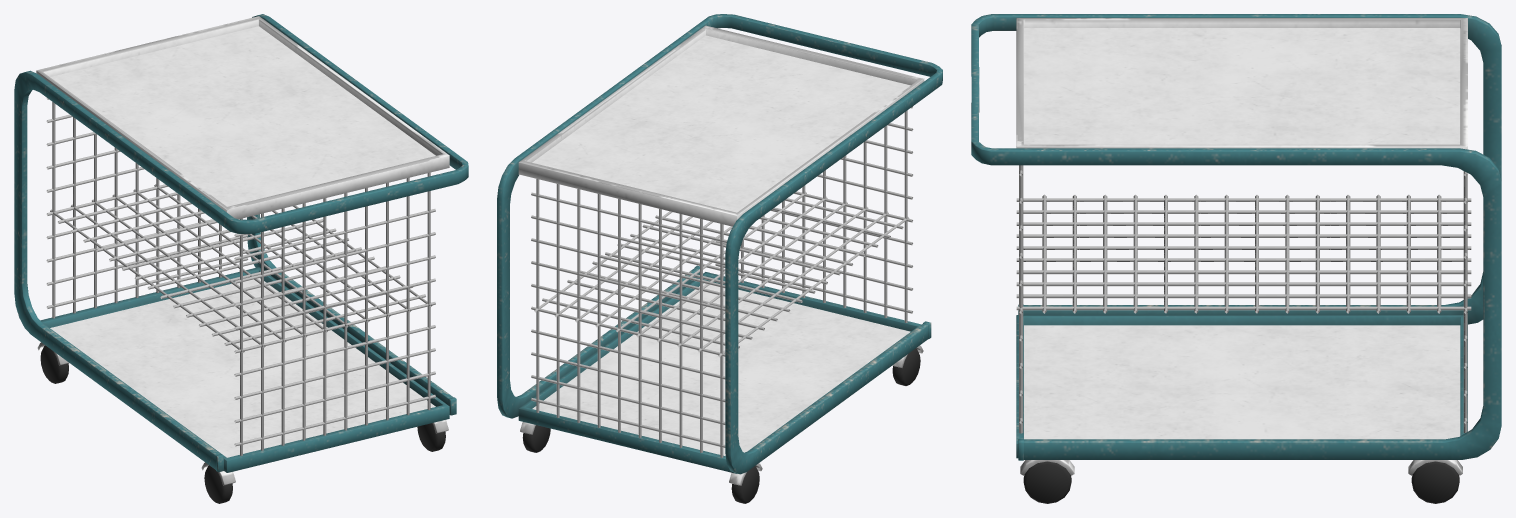
File: tableSmall3.fbx
3 views of the same model, side by side, from view 1: azimuth 30°, elevation 25°; view 2: azimuth 150°, elevation 25°; view 3: azimuth 270°, elevation 25° (orthographic). The views are drawn at different scales.
Visible parts, largest first — view 1: tableSmall3; view 2: tableSmall3; view 3: tableSmall3.
Part boxes in pixels (x1,y1,x2,y2): tableSmall3: [14, 14, 468, 503]; tableSmall3: [497, 14, 942, 503]; tableSmall3: [971, 14, 1501, 503].
Size of the model in its own units: 22.6 by 27.37 by 36.72.
